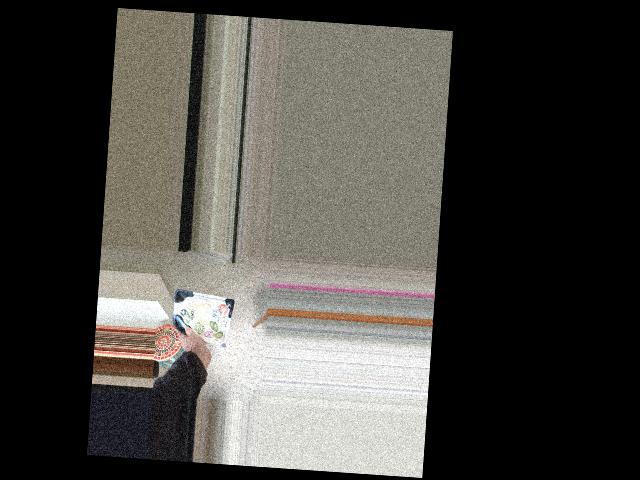cheese: (178, 306, 232, 356)
